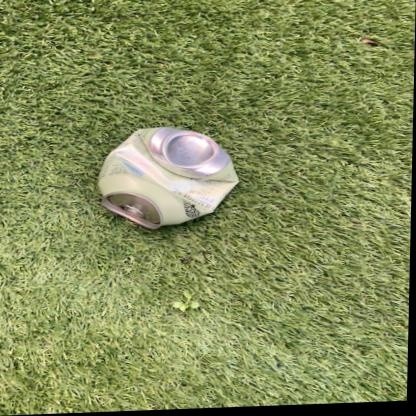trash: (98, 128, 237, 228)
